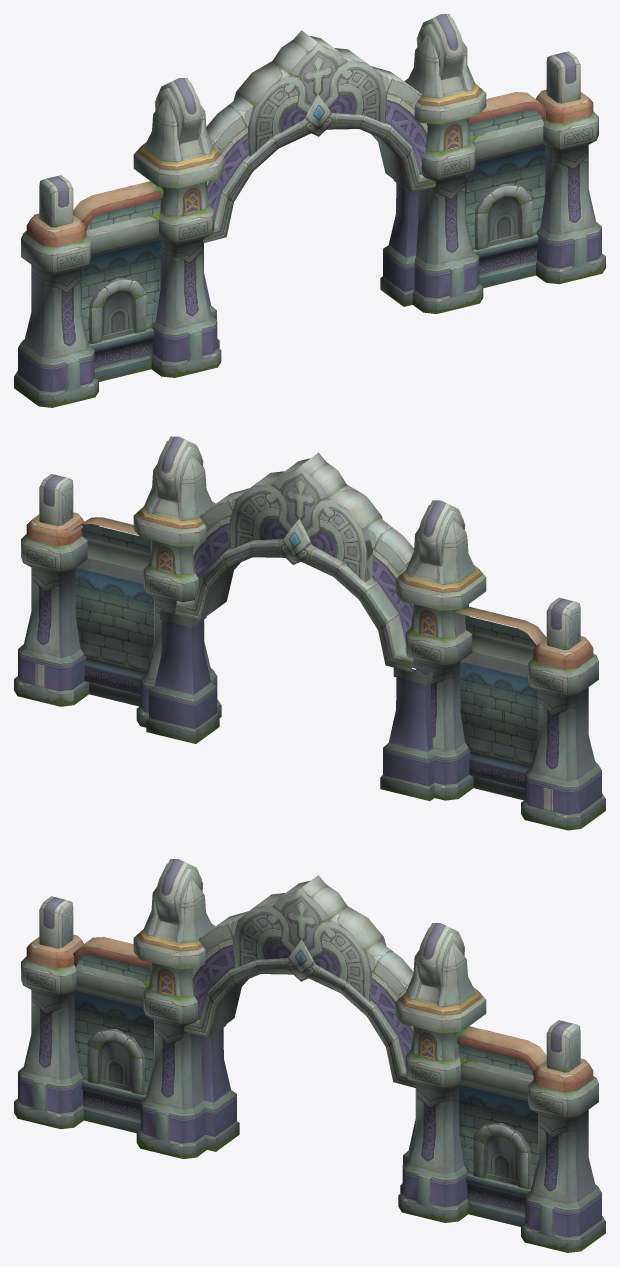
Rendered from Map_06_gate01.FBX.
The picture shows the model from 3 angles, top to bottom: view 1: azimuth 30°, elevation 25°; view 2: azimuth 150°, elevation 25°; view 3: azimuth 330°, elevation 25°; orthographic projection.
Visible parts, largest first — view 1: Map_06_gate01; view 2: Map_06_gate01; view 3: Map_06_gate01.
Boxes of the visible parts, left/top/right/bottom form: Map_06_gate01: left=14, top=14, right=605, bottom=407; Map_06_gate01: left=14, top=436, right=605, bottom=830; Map_06_gate01: left=14, top=859, right=605, bottom=1252.
Bounding box in the file's own units: 2535 × 316 × 1247.
